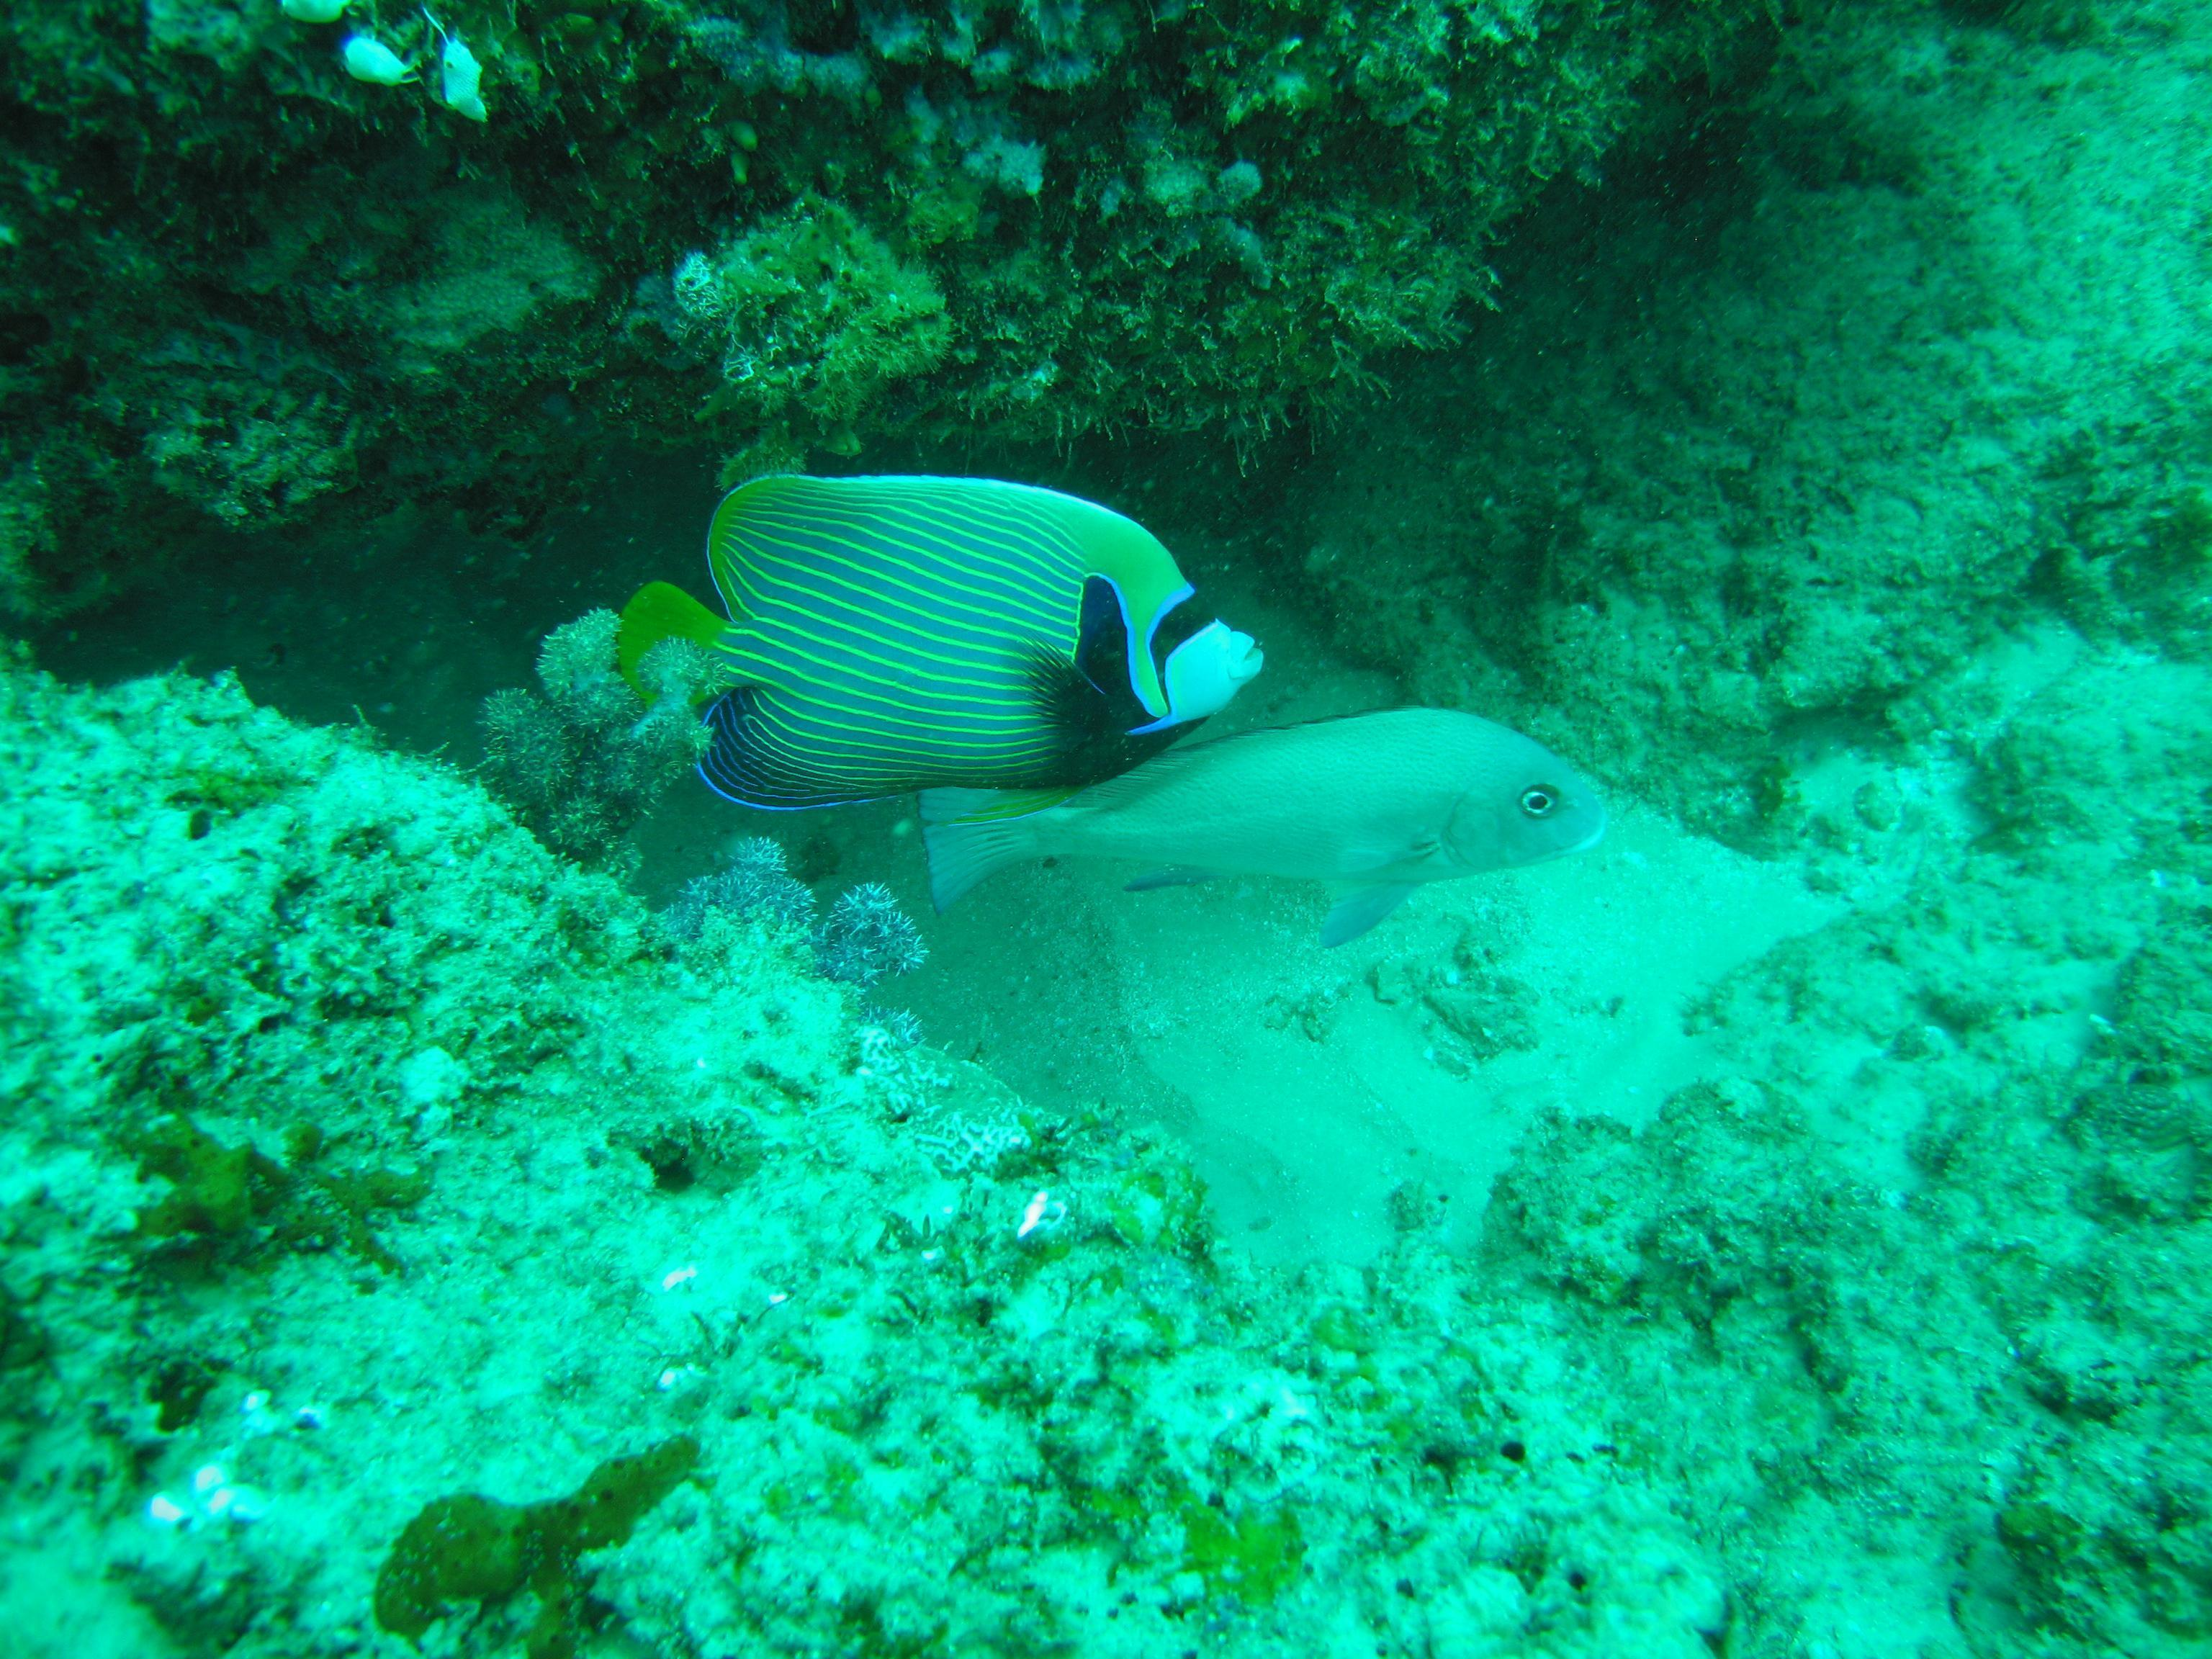Fish: (533, 458, 1282, 810)
